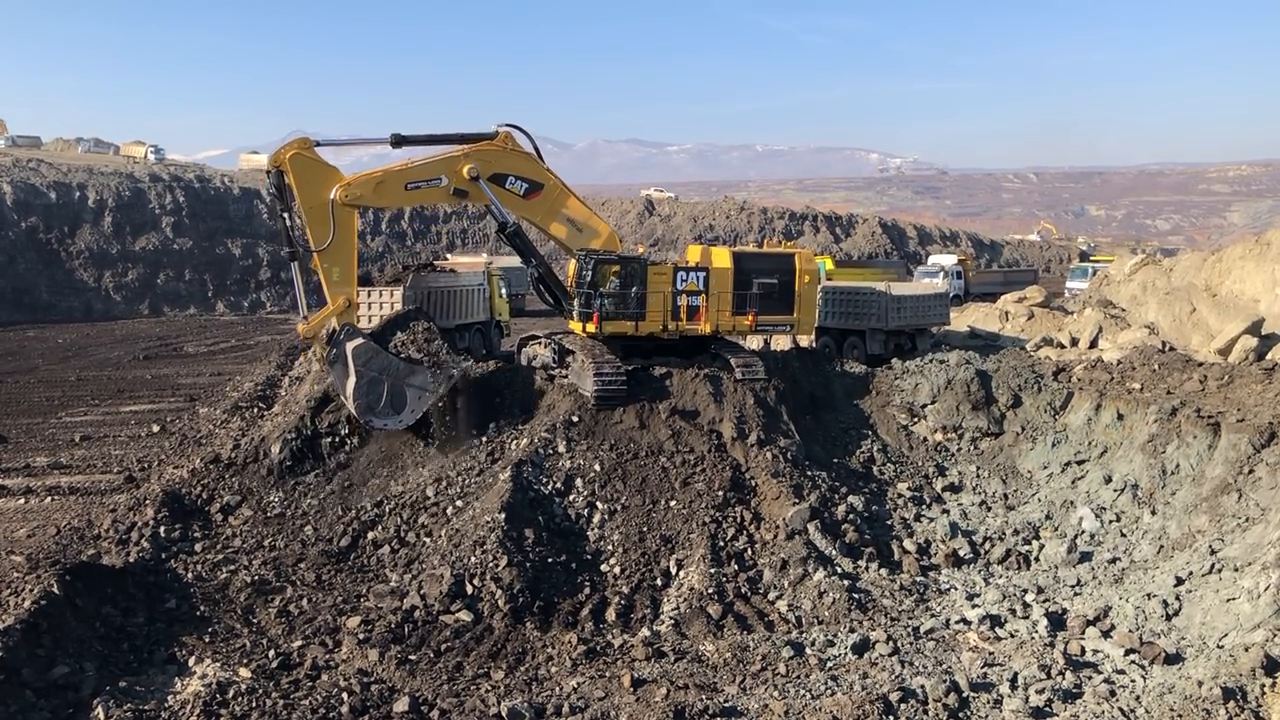full: (334, 309, 476, 437)
